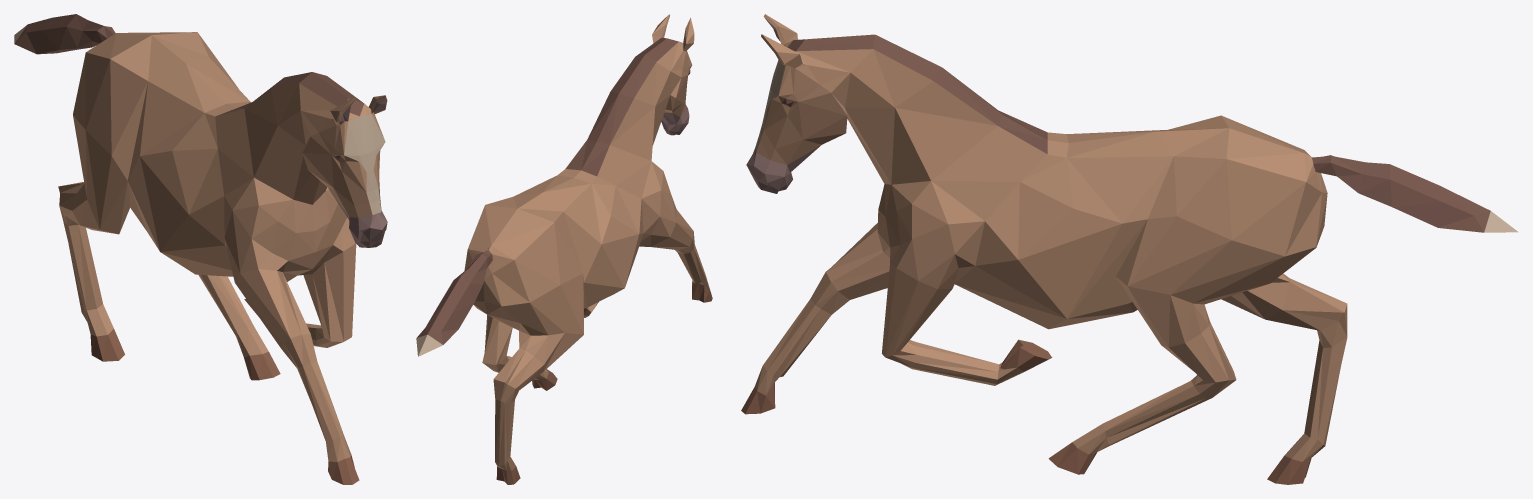
File: Horse.glb
3 renders of one model, left to right at view 1: azimuth 30°, elevation 25°; view 2: azimuth 150°, elevation 25°; view 3: azimuth 270°, elevation 25°, orthographic. The views are drawn at different scales.
Parts seen in each view (by area): view 1: mesh_0; view 2: mesh_0; view 3: mesh_0.
Part boxes in pixels (box(x1,y1,x2,y2)): mesh_0: box(14, 14, 387, 484); mesh_0: box(416, 14, 712, 484); mesh_0: box(741, 14, 1518, 484).
Bounding box in the file's own units: 63.42 × 186 × 280.
